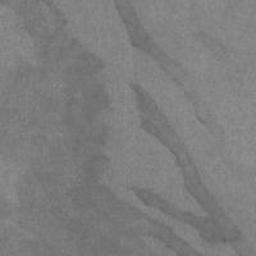Water spot: (0, 0, 256, 256), (110, 0, 256, 163)
